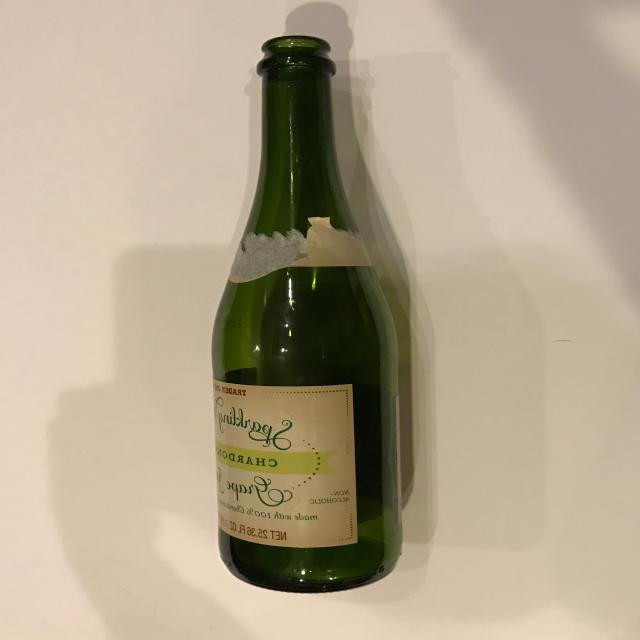glass: (210, 34, 404, 593)
